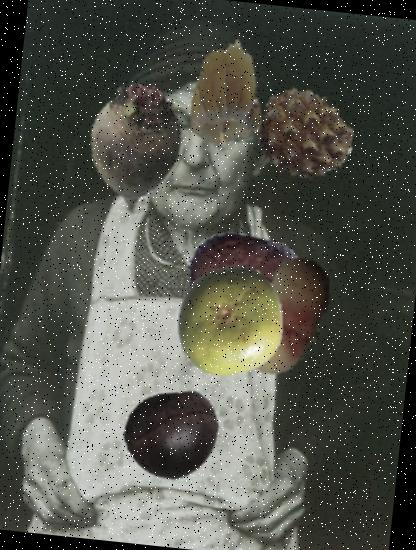Beetroot: (58, 66, 214, 220)
Chestnut: (118, 383, 224, 489)
Peach: (213, 246, 354, 386)
Physalis: (163, 36, 283, 156)
Pineapple: (250, 80, 359, 190)
Pomelo: (168, 260, 292, 385)
Salak: (180, 220, 307, 347)
